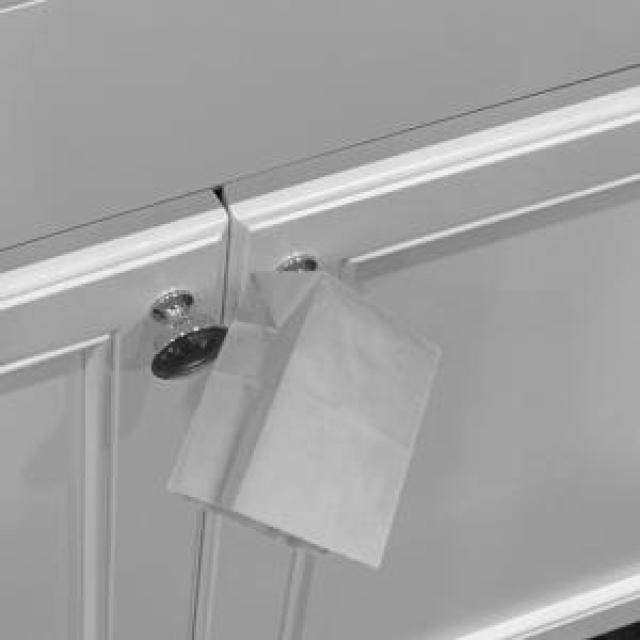paper: (164, 267, 435, 563)
